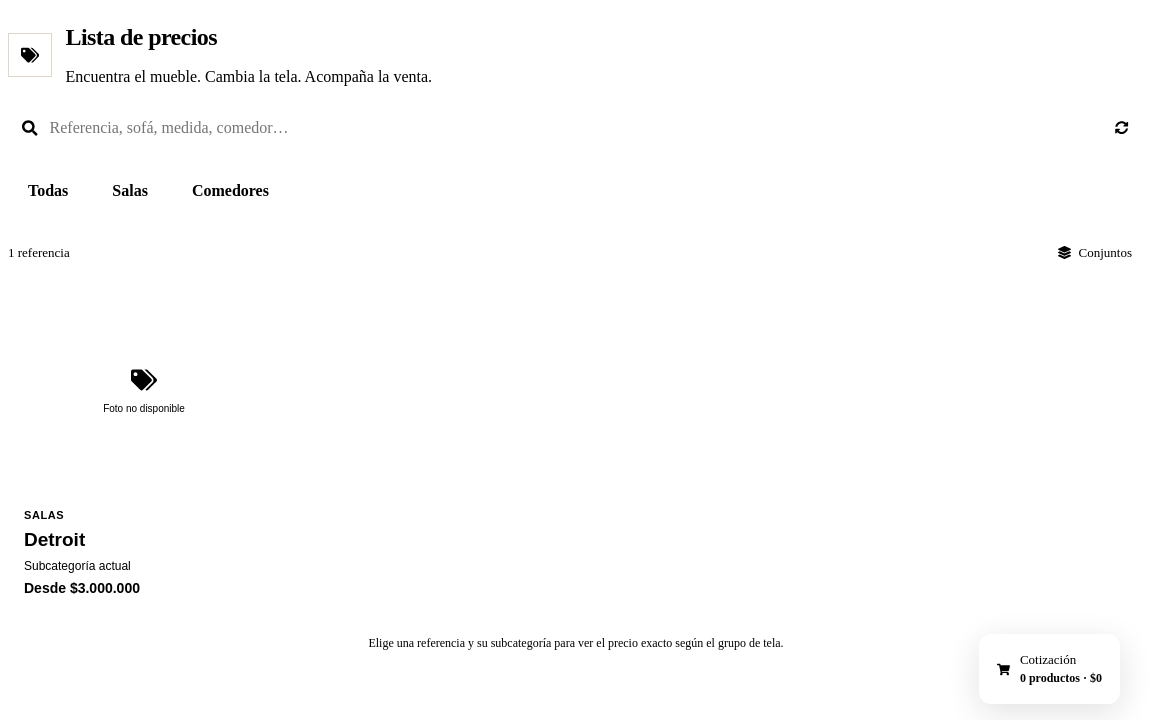
Test: Consulta de showroom › descarta el catálogo del navegador anterior a la unificación de subcategorías
Click the button with aria-label "Consultar Detroit". click: (144, 409)
box: [8,289,280,612]
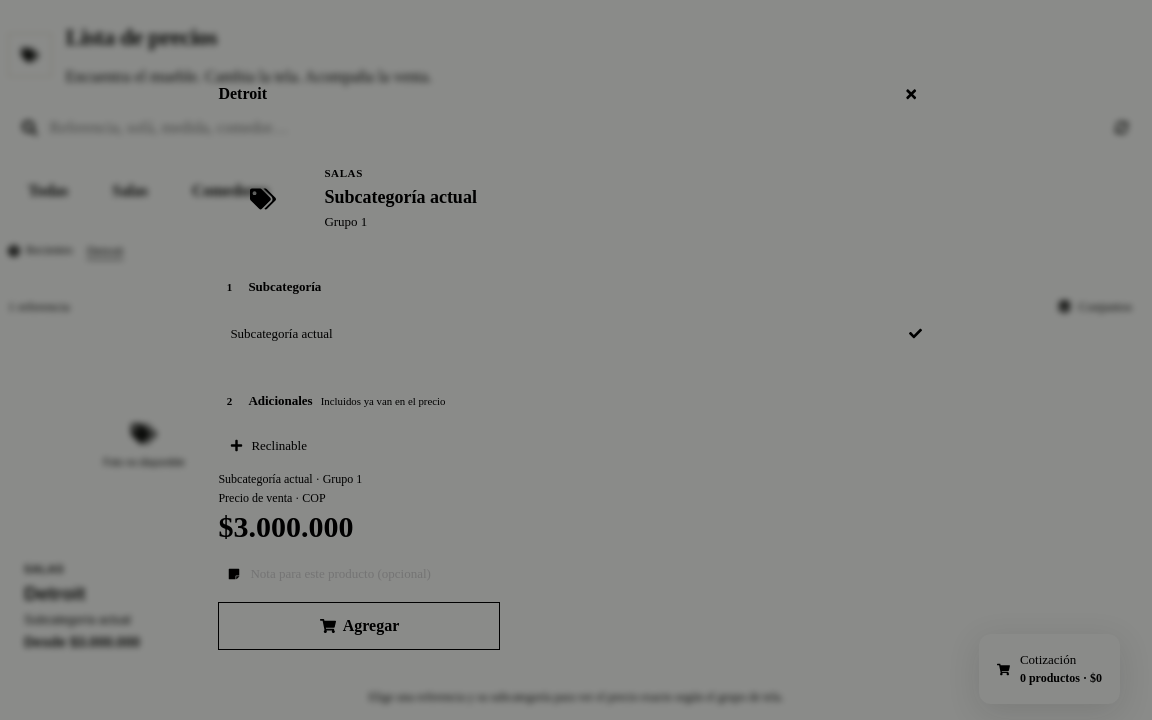
Check: the button "Subcategoría actual" is shown, box [218,310,934,358]
